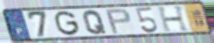5: (134, 6, 159, 34)
7: (25, 10, 50, 39)
G: (54, 10, 82, 37)
H: (156, 5, 192, 33)
P: (105, 7, 133, 35)
Q: (82, 10, 109, 35)
